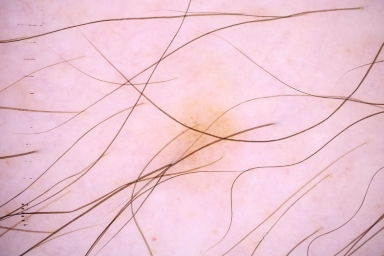melanoma: (171, 105, 232, 164)
